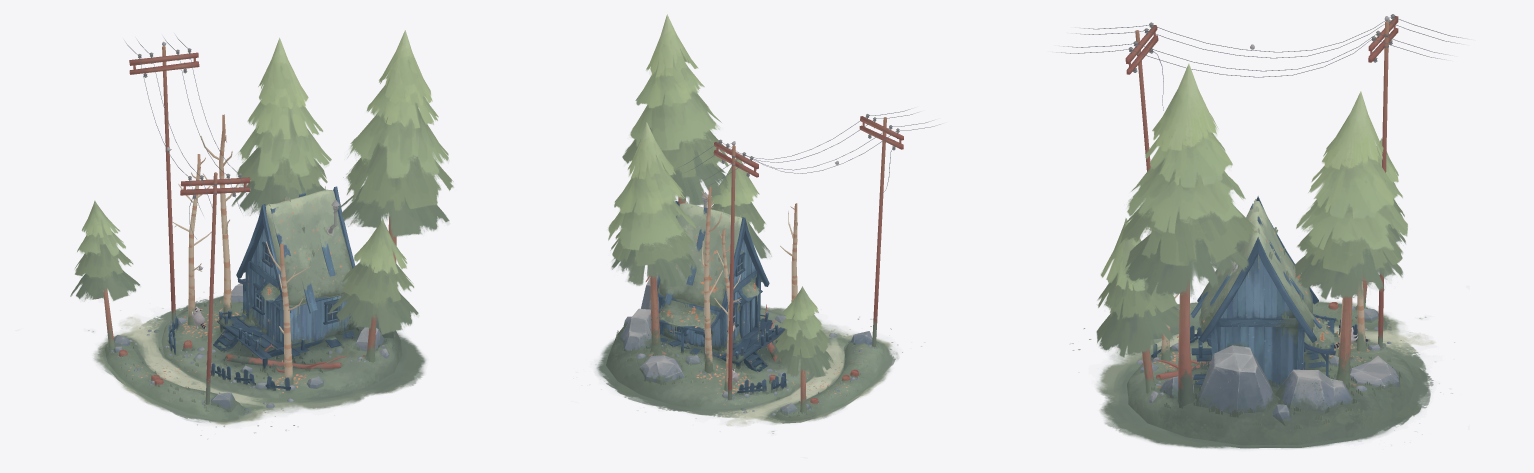
3 renders of one model, left to right at view 1: azimuth 30°, elevation 25°; view 2: azimuth 150°, elevation 25°; view 3: azimuth 270°, elevation 25°, orthographic. The views are drawn at different scales.
Visible parts, largest first — view 1: RedwoodAlpha, Ground, GroundPlane, RoofMoss, House, Powerlines, Rocks, HouseWoodFloor, BTree.001, BTree, BTree.002, Grass.Ground (+5 smaller); view 2: RedwoodAlpha, Ground, GroundPlane, Powerlines, RoofMoss, House, Rocks, BTree.001, SideRoofBase, HouseWoodFloor, Redwood, Grass.Ground (+4 smaller); view 3: RedwoodAlpha, Ground, Rocks, House, GroundPlane, Powerlines, RoofMoss, Redwood, Grass.Ground, SideRoofBase, Roof.009, HouseWoodFloor (+2 smaller).
Boxes of the visible parts, box(x1,y1,x2,y2) form: RedwoodAlpha: box(70, 30, 453, 335); Ground: box(105, 296, 402, 419); GroundPlane: box(88, 292, 426, 439); RoofMoss: box(265, 189, 351, 305); House: box(236, 186, 355, 346); Powerlines: box(129, 46, 250, 404); Rocks: box(113, 283, 385, 411); HouseWoodFloor: box(217, 313, 354, 359); BTree.001: box(200, 114, 237, 316); BTree: box(266, 241, 310, 385); BTree.002: box(172, 154, 211, 325); Grass.Ground: box(107, 295, 394, 412); RedwoodAlpha: box(608, 14, 834, 377); Ground: box(606, 308, 884, 423); GroundPlane: box(595, 305, 924, 433); Powerlines: box(713, 114, 903, 399); RoofMoss: box(659, 203, 742, 306); House: box(657, 201, 769, 350); Rocks: box(619, 275, 872, 416); BTree.001: box(701, 186, 722, 372); SideRoofBase: box(651, 300, 718, 334); HouseWoodFloor: box(660, 318, 785, 362); Redwood: box(645, 195, 806, 413); Grass.Ground: box(613, 317, 881, 417); RedwoodAlpha: box(1096, 63, 1407, 358); Ground: box(1127, 302, 1415, 448); Rocks: box(1140, 306, 1400, 426); House: box(1197, 196, 1318, 386); GroundPlane: box(1069, 300, 1454, 448); Powerlines: box(1125, 14, 1398, 347); RoofMoss: box(1199, 201, 1314, 330); Redwood: box(1142, 275, 1372, 406); Grass.Ground: box(1150, 303, 1401, 429); SideRoofBase: box(1304, 314, 1335, 355); Roof.009: box(1190, 203, 1322, 328); HouseWoodFloor: box(1191, 336, 1325, 385).
Size of the model in its own units: 0.1447 by 0.1437 by 0.1766.
12 materials, 12 textured.
